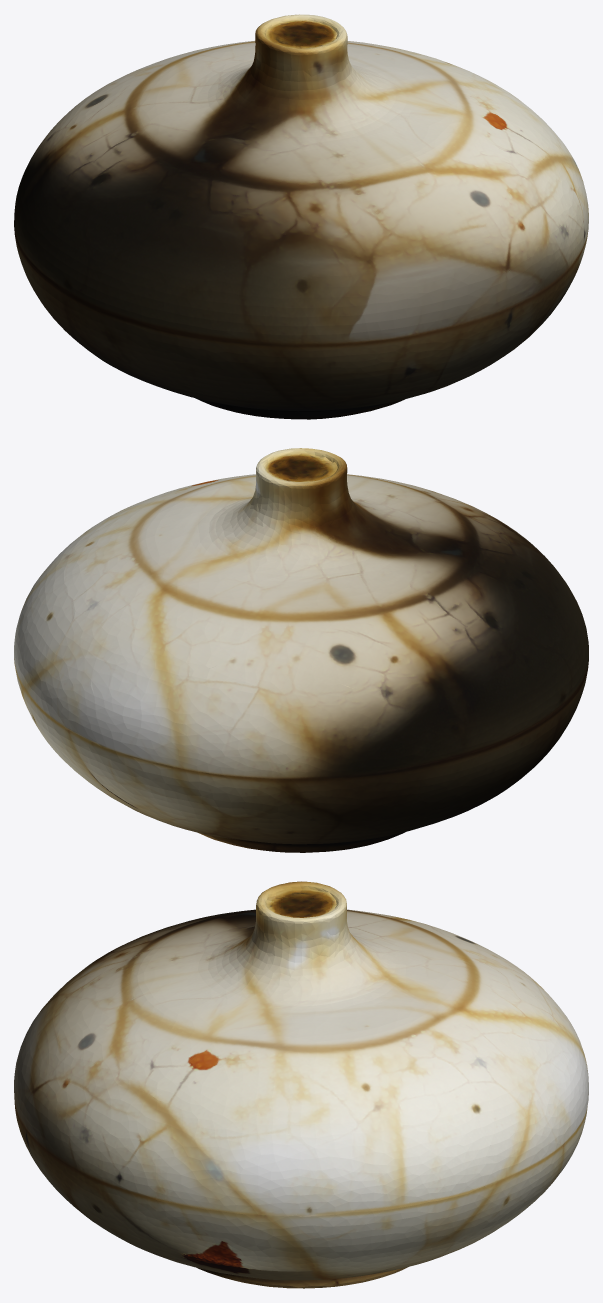
File: porcelain-scented-diffuser-used-rustic-worn.jpeg.glb
The picture shows the model from 3 angles, top to bottom: view 1: azimuth 30°, elevation 25°; view 2: azimuth 150°, elevation 25°; view 3: azimuth 270°, elevation 25°; orthographic projection.
Parts seen in each view (by area): view 1: world; view 2: world; view 3: world.
Part boxes in pixels (x1,y1,x2,y2): world: (14, 14, 588, 419); world: (14, 448, 588, 852); world: (14, 881, 588, 1288).
Bounding box in the file's own units: 0.9996 × 0.6354 × 0.9997.
Materials: 1 (1 with a texture image).
